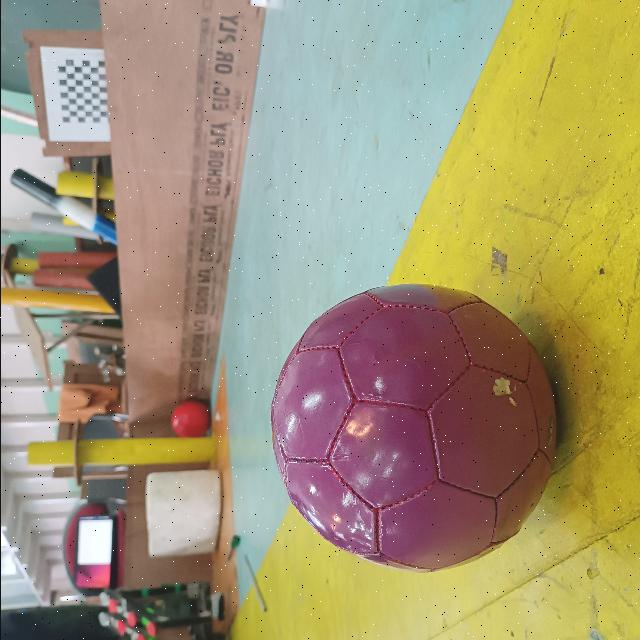P: (264, 277, 566, 577)
